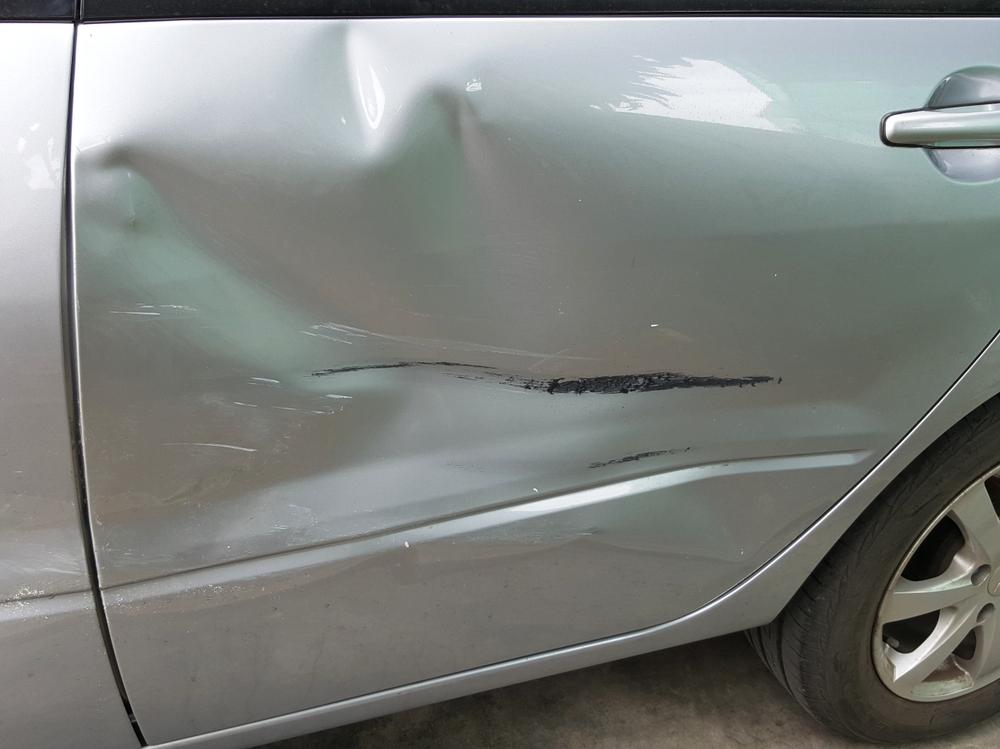dent: (70, 26, 875, 570)
